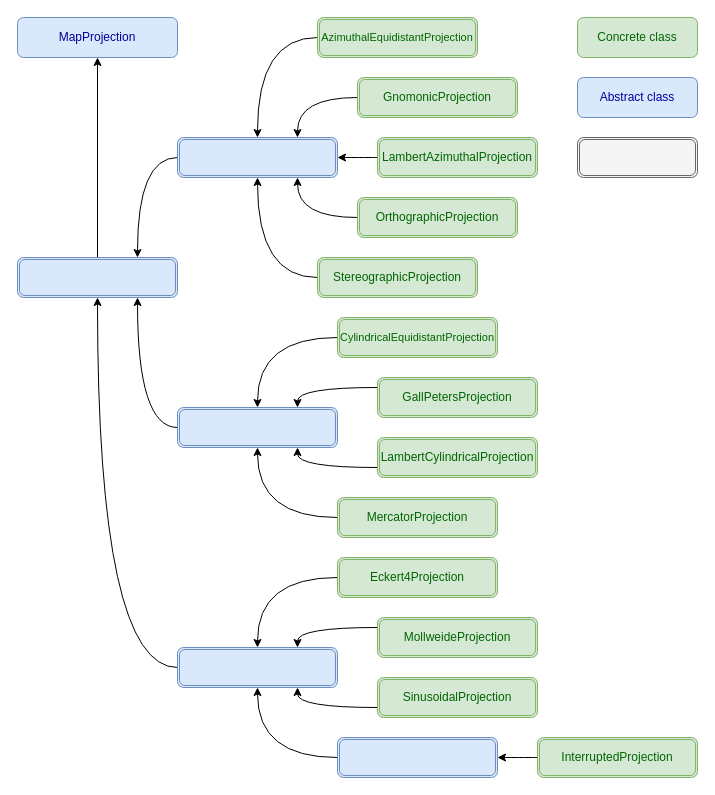
The diagram is 715 pixels wide and 795 high, and some of its shapes have lost their labels. Here are the shapes that lost their labels. From the top down, the centre of each, then its label:
(x=257, y=157): AzimuthalProjection
(x=637, y=157): Class template
(x=97, y=277): BasicMapProjection
(x=257, y=427): CylindricalProjection
(x=257, y=667): PseudocylindricalProjection
(x=417, y=757): InterruptedProjectionBase
